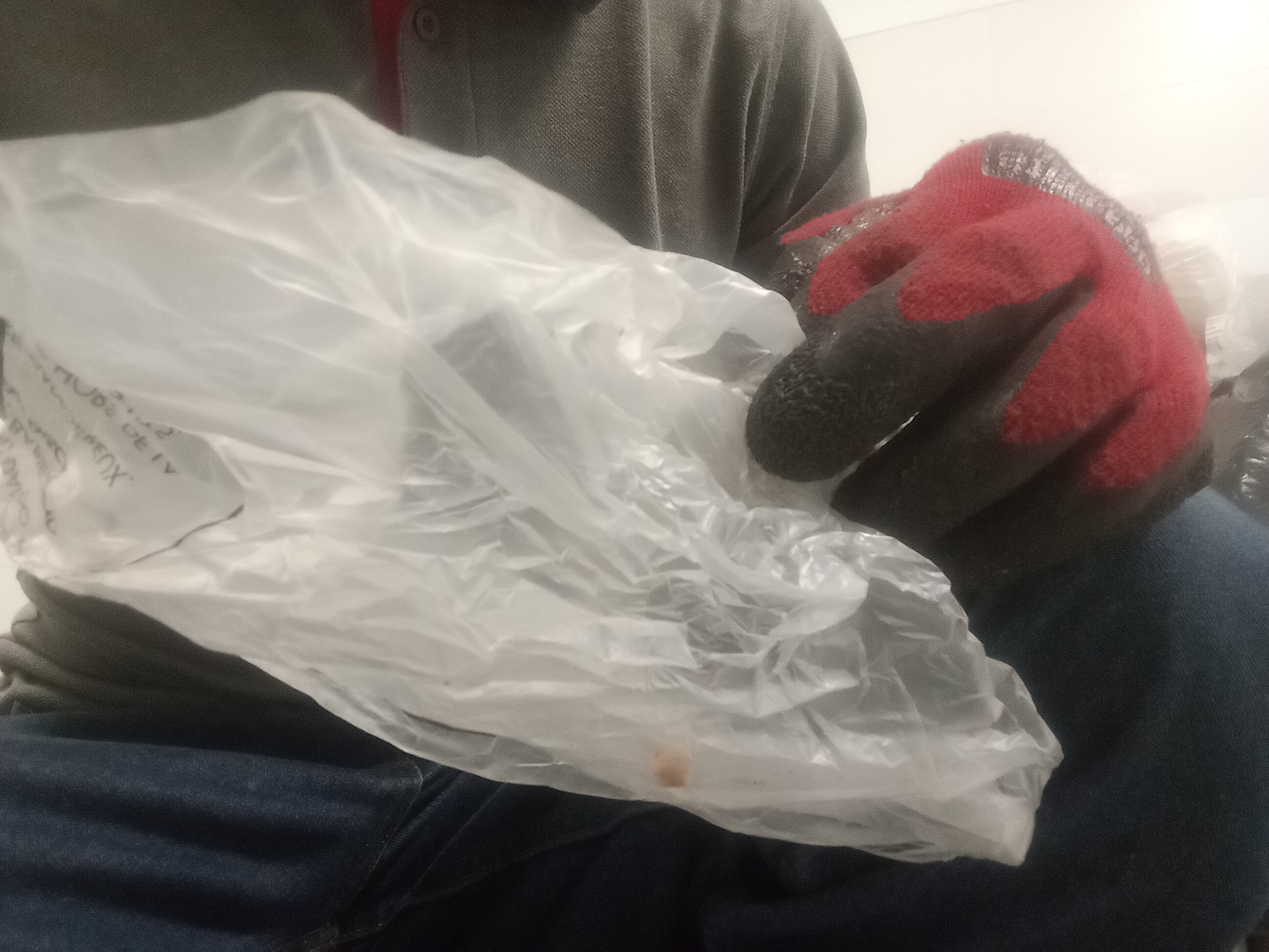Plastico: (0, 90, 1062, 868)
